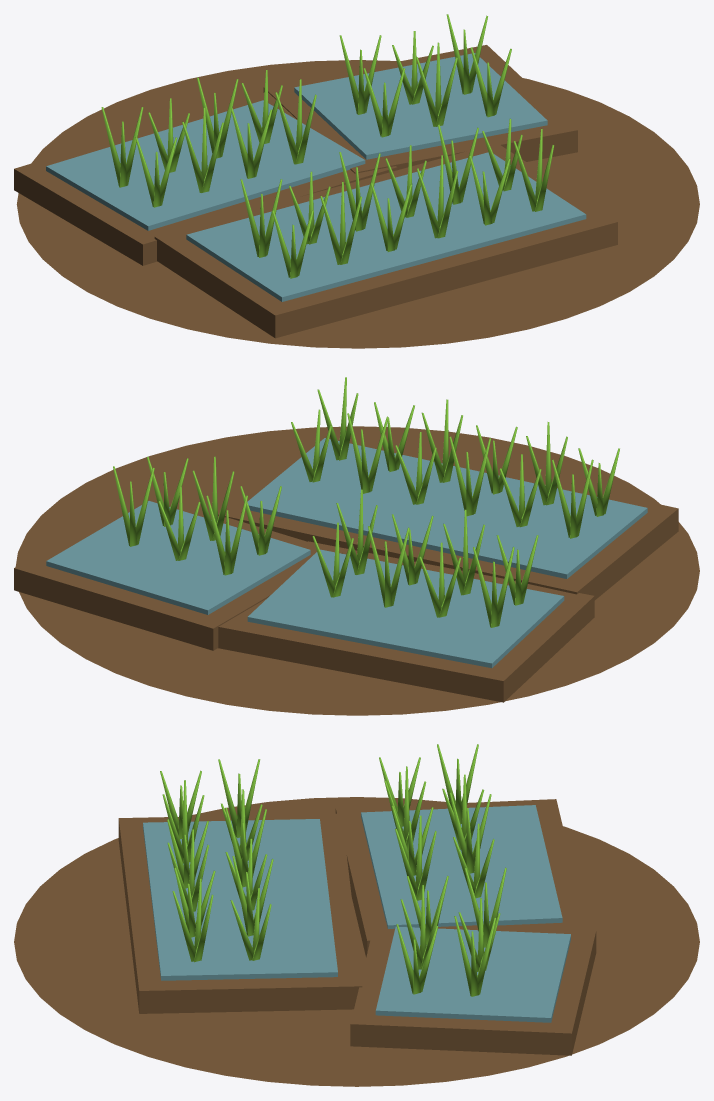
The model's file is resource_rice.fbx.
3 views of the same model, one above another, from view 1: azimuth 30°, elevation 25°; view 2: azimuth 150°, elevation 25°; view 3: azimuth 270°, elevation 25° (orthographic).
Visible parts, largest first — view 1: resource_rice_sg#7a5a38_00, resource_rice_paddyw_02, resource_rice_mud_01, resource_rice_rice_03; view 2: resource_rice_paddyw_02, resource_rice_sg#7a5a38_00, resource_rice_mud_01, resource_rice_rice_03; view 3: resource_rice_sg#7a5a38_00, resource_rice_paddyw_02, resource_rice_mud_01, resource_rice_rice_03.
Boxes of the visible parts, bbox=[...] form: resource_rice_sg#7a5a38_00: bbox=[16, 60, 699, 348]; resource_rice_paddyw_02: bbox=[46, 53, 586, 301]; resource_rice_mud_01: bbox=[14, 45, 617, 338]; resource_rice_rice_03: bbox=[101, 14, 554, 278]; resource_rice_paddyw_02: bbox=[46, 438, 647, 668]; resource_rice_sg#7a5a38_00: bbox=[15, 426, 699, 715]; resource_rice_mud_01: bbox=[14, 429, 678, 702]; resource_rice_rice_03: bbox=[113, 377, 619, 627]; resource_rice_sg#7a5a38_00: bbox=[14, 797, 699, 1086]; resource_rice_paddyw_02: bbox=[143, 805, 570, 1022]; resource_rice_mud_01: bbox=[118, 799, 596, 1055]; resource_rice_rice_03: bbox=[160, 744, 506, 996].
Size of the model in its own units: 118 by 19.25 by 118.
